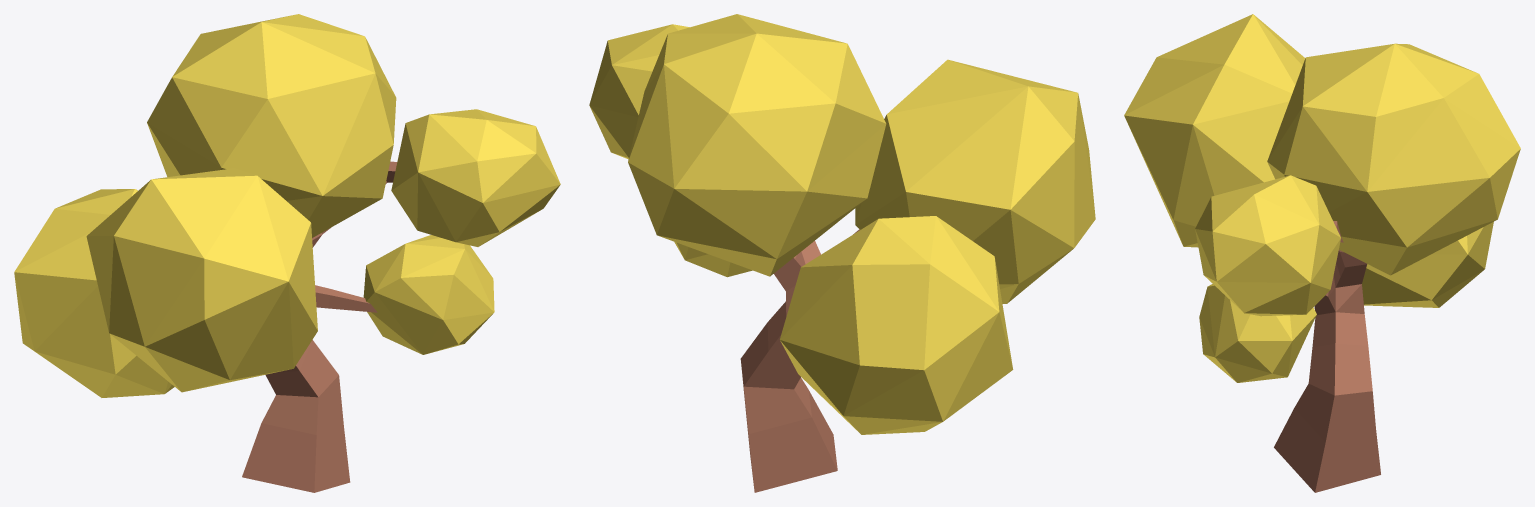
File: Torchflower Tree.fbx
3 renders of one model, left to right at view 1: azimuth 30°, elevation 25°; view 2: azimuth 150°, elevation 25°; view 3: azimuth 270°, elevation 25°, orthographic. The views are drawn at different scales.
Parts seen in each view (by area): view 1: Torchflower (daun 3), Torchflower (daun 2), Torchflower (daun 4), Torchflower (daun 1), Torchflower, Torchflower (daun 5); view 2: Torchflower (daun 2), Torchflower (daun 1), Torchflower (daun 3), Torchflower, Torchflower (daun 4), Torchflower (daun 5); view 3: Torchflower (daun 2), Torchflower (daun 3), Torchflower (daun 4), Torchflower, Torchflower (daun 5), Torchflower (daun 1).
Boxes of the visible parts, x1,y1,x2,y2 form: Torchflower (daun 3): [86, 168, 317, 392]; Torchflower (daun 2): [147, 14, 396, 237]; Torchflower (daun 4): [391, 109, 560, 246]; Torchflower (daun 1): [14, 189, 174, 397]; Torchflower: [242, 161, 397, 492]; Torchflower (daun 5): [363, 235, 494, 354]; Torchflower (daun 2): [628, 14, 886, 276]; Torchflower (daun 1): [779, 216, 1013, 434]; Torchflower (daun 3): [855, 59, 1095, 303]; Torchflower: [740, 229, 859, 492]; Torchflower (daun 4): [589, 24, 689, 159]; Torchflower (daun 5): [674, 242, 752, 277]; Torchflower (daun 2): [1267, 43, 1520, 275]; Torchflower (daun 3): [1124, 14, 1305, 247]; Torchflower (daun 4): [1195, 175, 1340, 316]; Torchflower: [1274, 220, 1380, 492]; Torchflower (daun 5): [1199, 283, 1316, 382]; Torchflower (daun 1): [1362, 221, 1493, 307].
Bounding box in the file's own units: 684 × 648 × 546.
